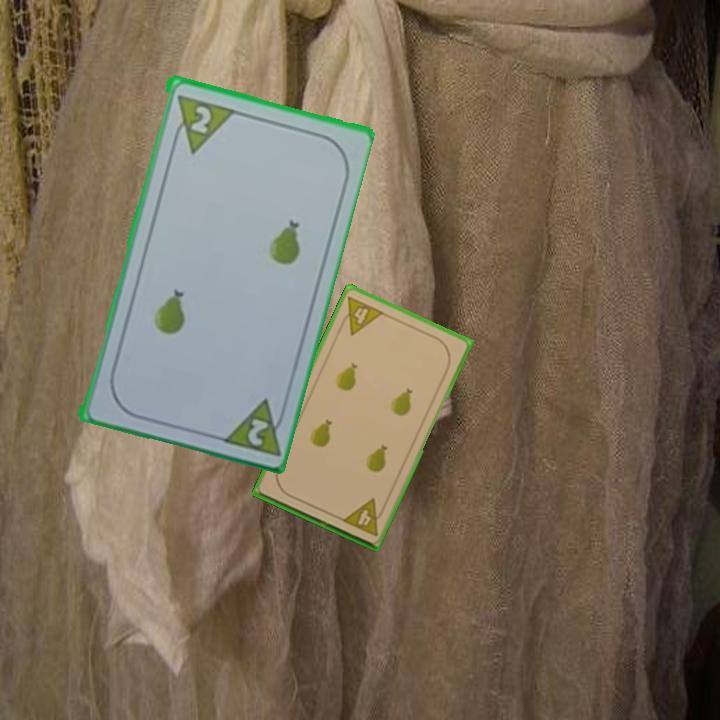2p: (167, 90, 235, 156), (243, 414, 271, 449)
4p: (335, 293, 387, 338), (338, 495, 389, 539)
